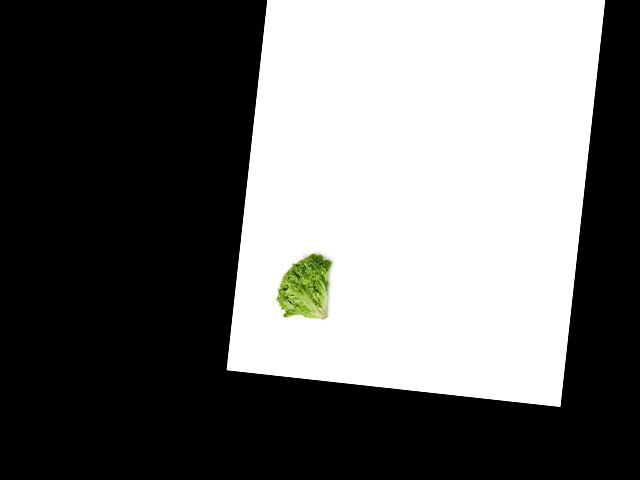lettuce: (270, 246, 339, 324)
